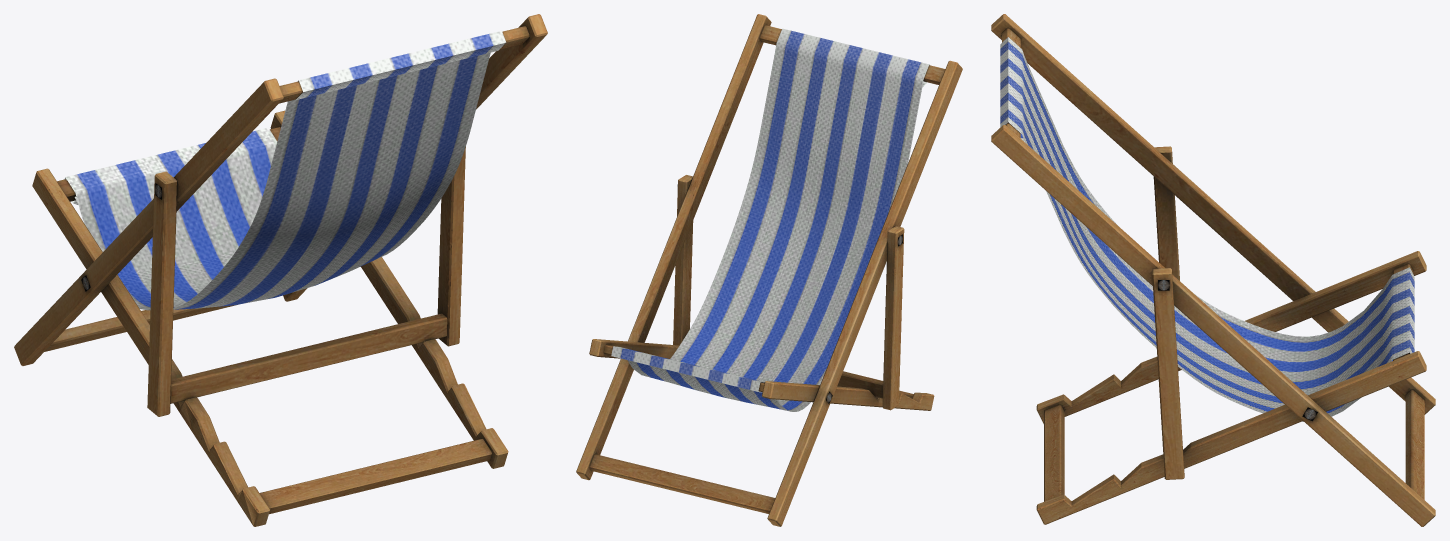
The model's file is blueDeckChair.fbx.
The picture shows the model from 3 angles, left to right: view 1: azimuth 30°, elevation 25°; view 2: azimuth 150°, elevation 25°; view 3: azimuth 270°, elevation 25°; orthographic projection. The views are drawn at different scales.
Parts seen in each view (by area): view 1: chair; view 2: chair; view 3: chair.
Boxes of the visible parts, left/top/right/bottom form: chair: left=14, top=14, right=547, bottom=526; chair: left=576, top=14, right=962, bottom=526; chair: left=991, top=14, right=1435, bottom=526.
Bounding box in the file's own units: 34.58 × 50.73 × 50.9.
Materials: 1 (1 with a texture image).
